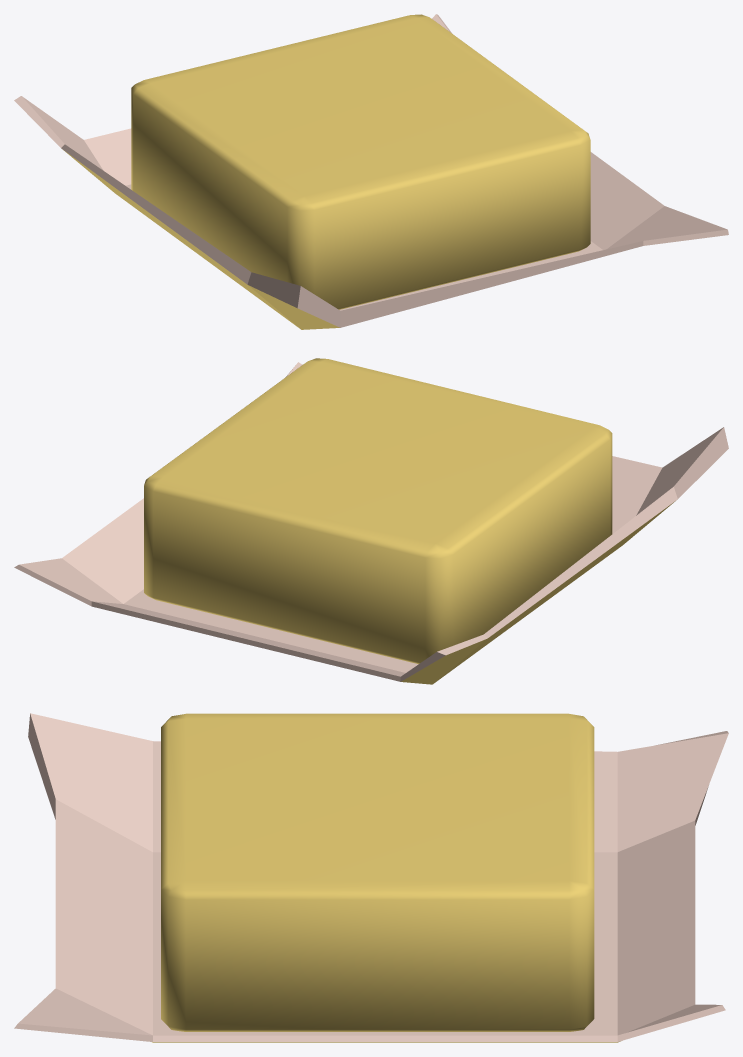
Rendered from mantequilla.glb.
3 renders of one model, top to bottom at view 1: azimuth 30°, elevation 25°; view 2: azimuth 150°, elevation 25°; view 3: azimuth 270°, elevation 25°, orthographic. The views are drawn at different scales.
Visible parts, largest first — view 1: mantequilla; view 2: mantequilla; view 3: mantequilla.
Boxes of the visible parts, bbox=[...] form: mantequilla: bbox=[14, 14, 728, 329]; mantequilla: bbox=[14, 358, 728, 684]; mantequilla: bbox=[14, 713, 728, 1042].
Bounding box in the file's own units: 1.83 × 0.4895 × 2.12.
